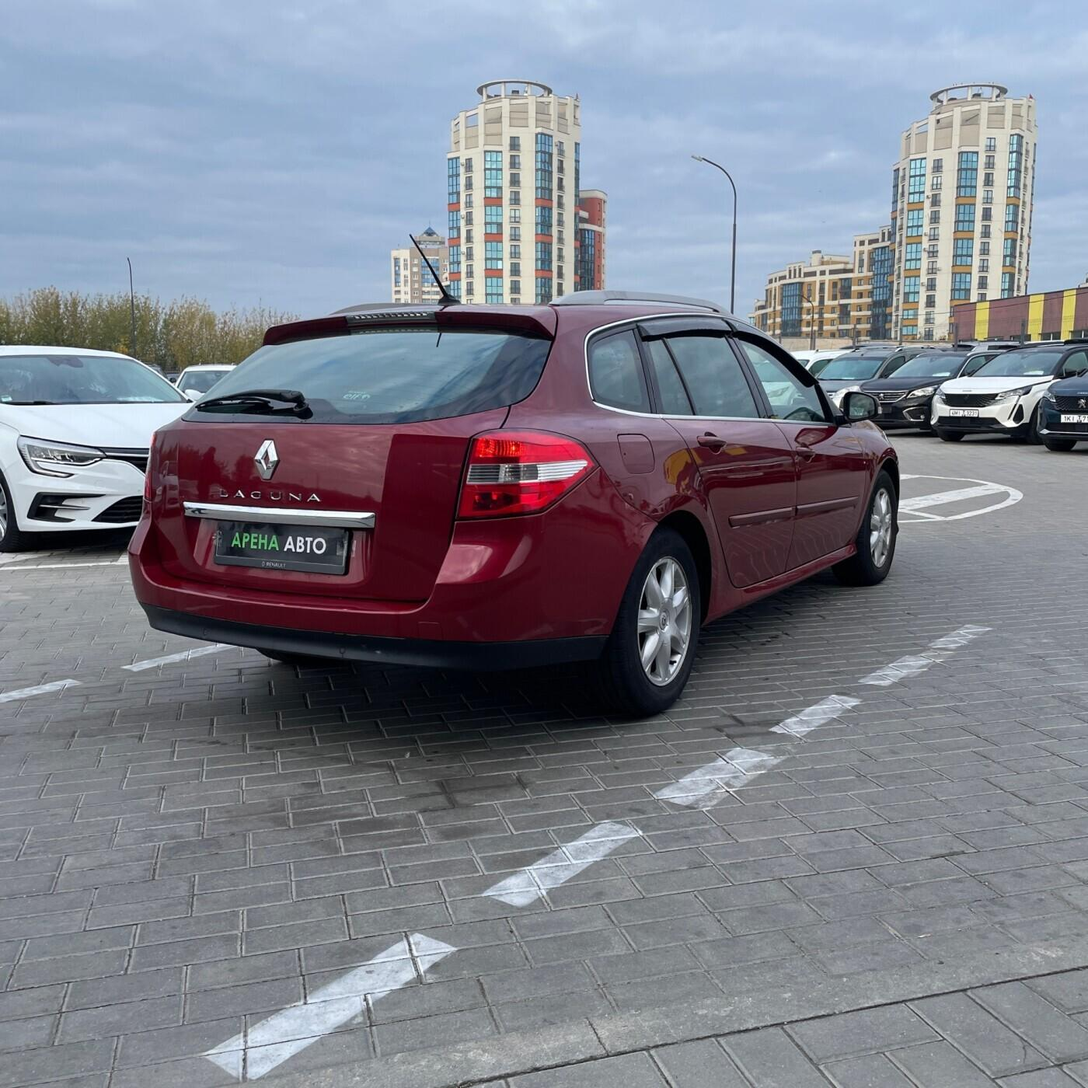Laguna_2007-2011: (130, 292, 903, 716)
